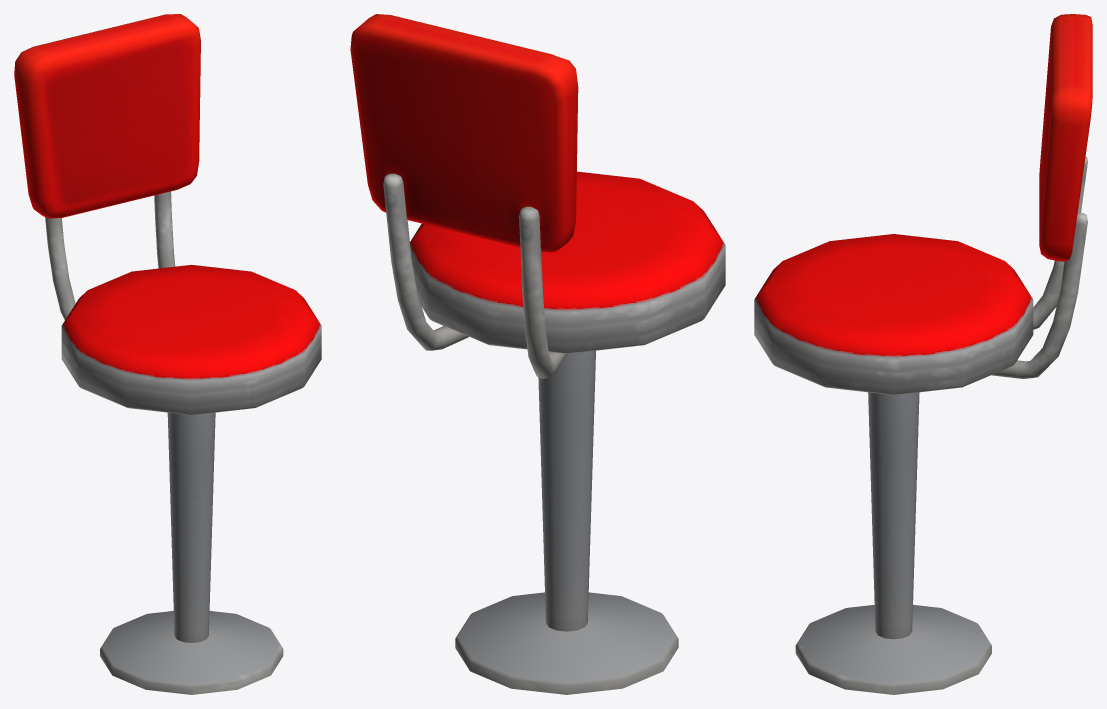
File: CafeChair01_2.FBX
3 renders of one model, left to right at view 1: azimuth 30°, elevation 25°; view 2: azimuth 150°, elevation 25°; view 3: azimuth 270°, elevation 25°, orthographic. The views are drawn at different scales.
Parts seen in each view (by area): view 1: CafeChair01_2; view 2: CafeChair01_2; view 3: CafeChair01_2.
Part boxes in pixels (box(x1,y1,x2,y2)): CafeChair01_2: box(14, 14, 321, 694); CafeChair01_2: box(350, 14, 725, 694); CafeChair01_2: box(754, 14, 1092, 694).
Size of what is drawn, in the model's own units: 0.5366 by 1.28 by 0.6507.
